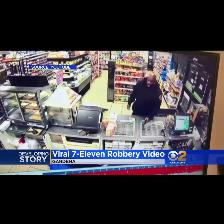person: (128, 74, 162, 122)
